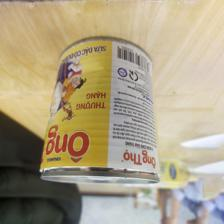Ong_tho: (38, 37, 162, 186)
